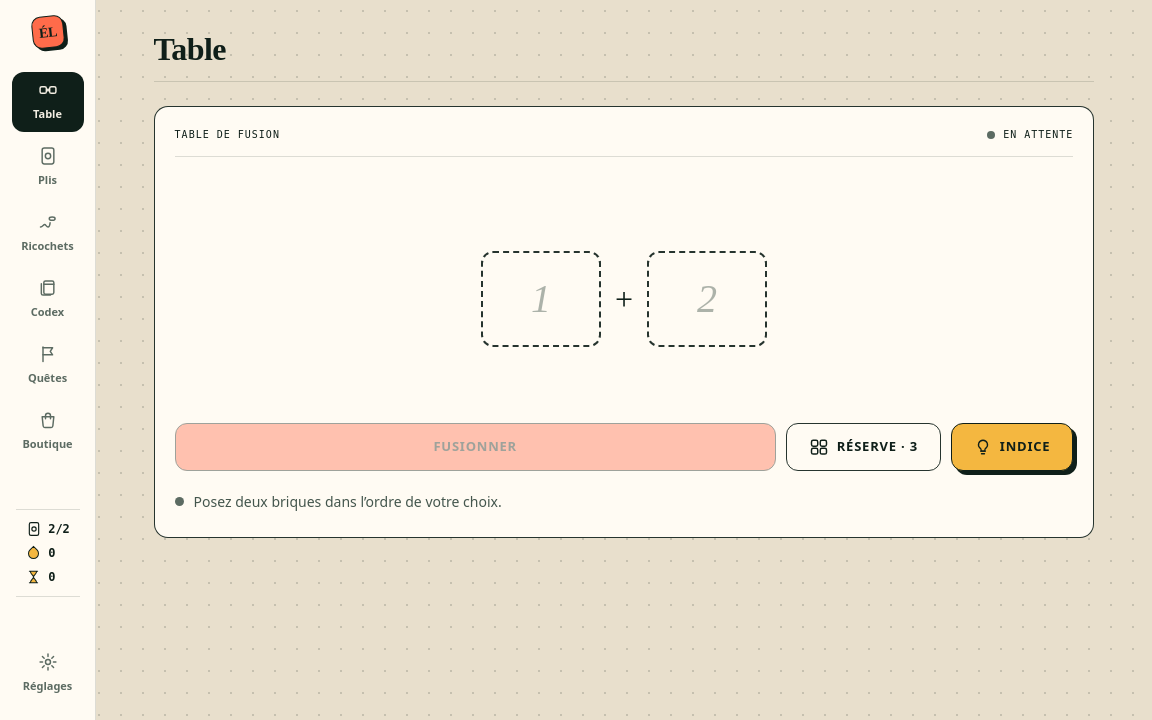
it: table de fusion › pose la brique choisie au bouton dans la case vide la plus à gauche
Click the button "Réserve · 3" at point(863, 447), box left=786, top=423, right=941, bottom=471
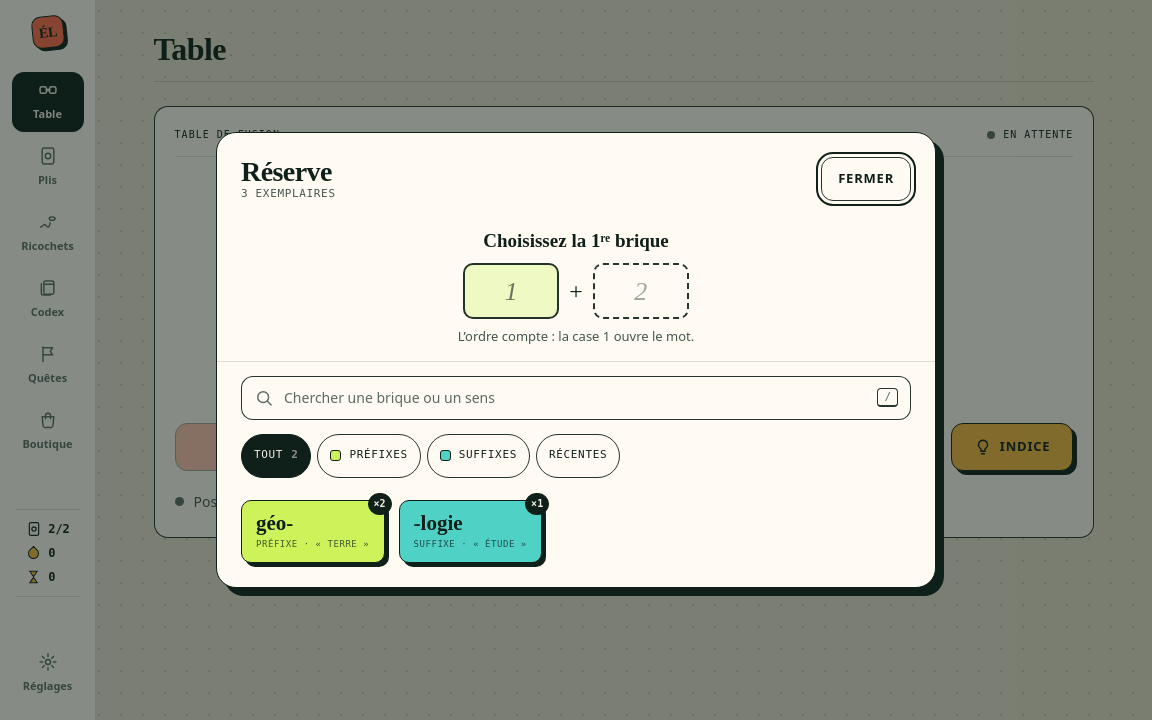
Click the button "géo- préfixe · « terre » ×2" at point(313, 532), box left=241, top=500, right=385, bottom=563
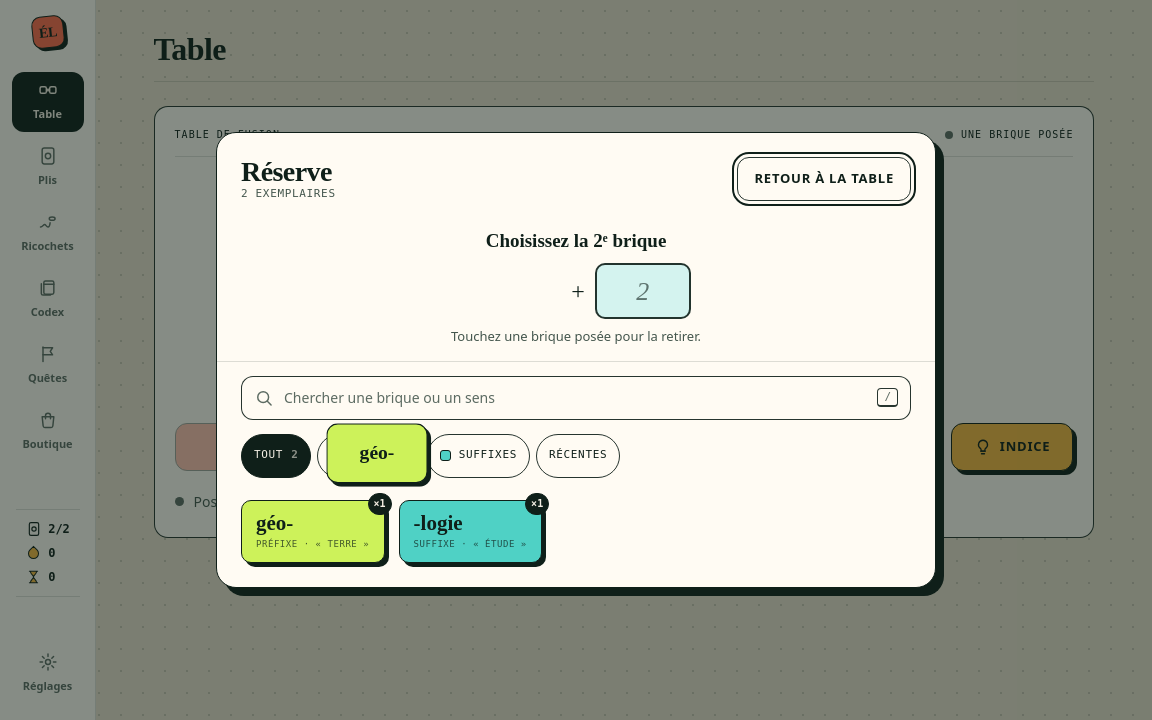
Click the button "-logie suffixe · « étude » ×1" at point(470, 532), box left=399, top=500, right=542, bottom=563
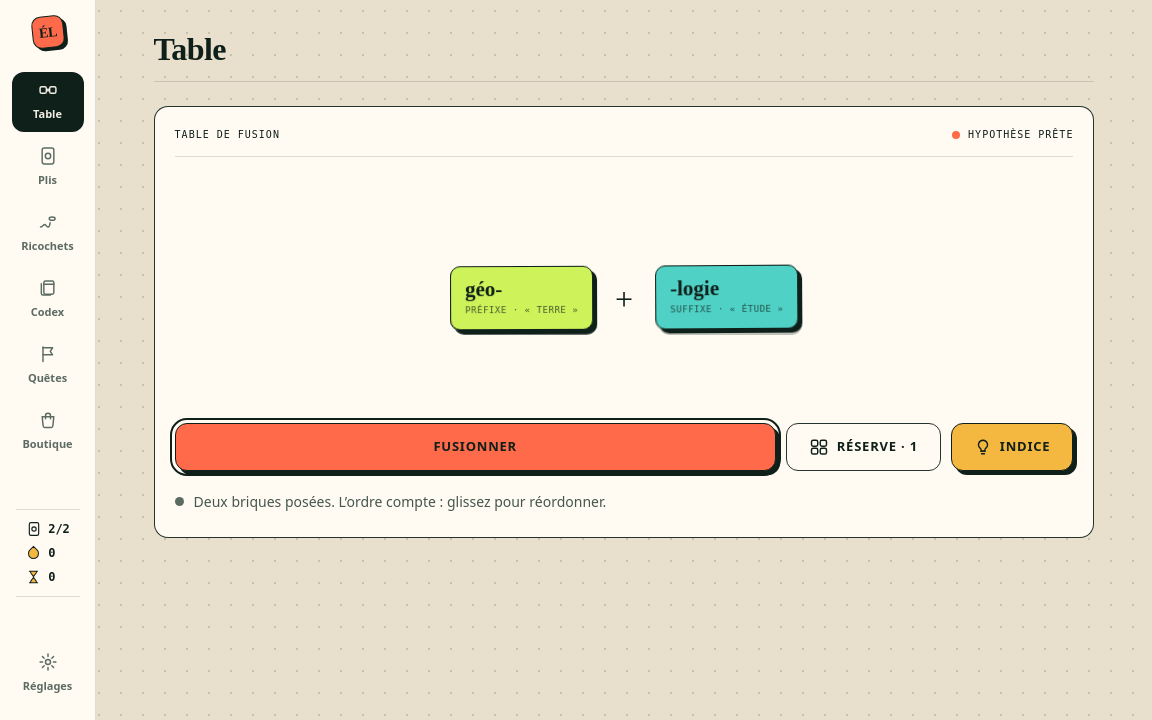
Click the button with aria-label "Emplacement 1 : géo-. Retirer" at point(521, 299), box left=442, top=251, right=601, bottom=347
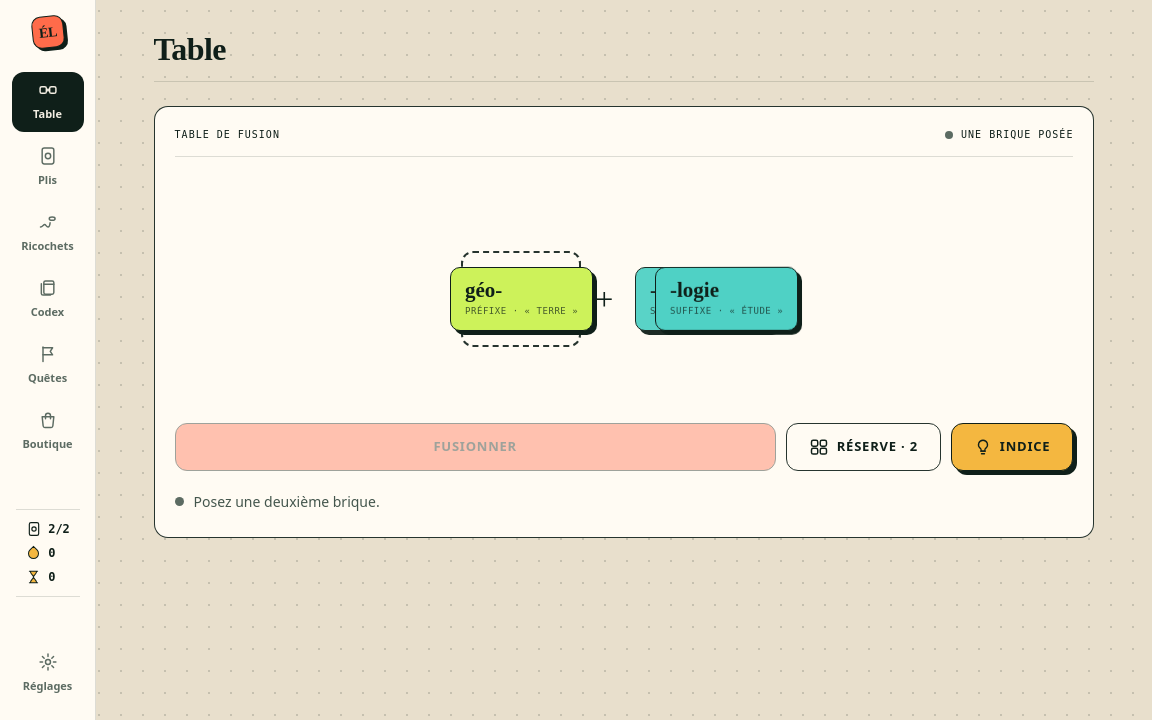
Click the button "Réserve · 2" at point(863, 447), box left=786, top=423, right=941, bottom=471
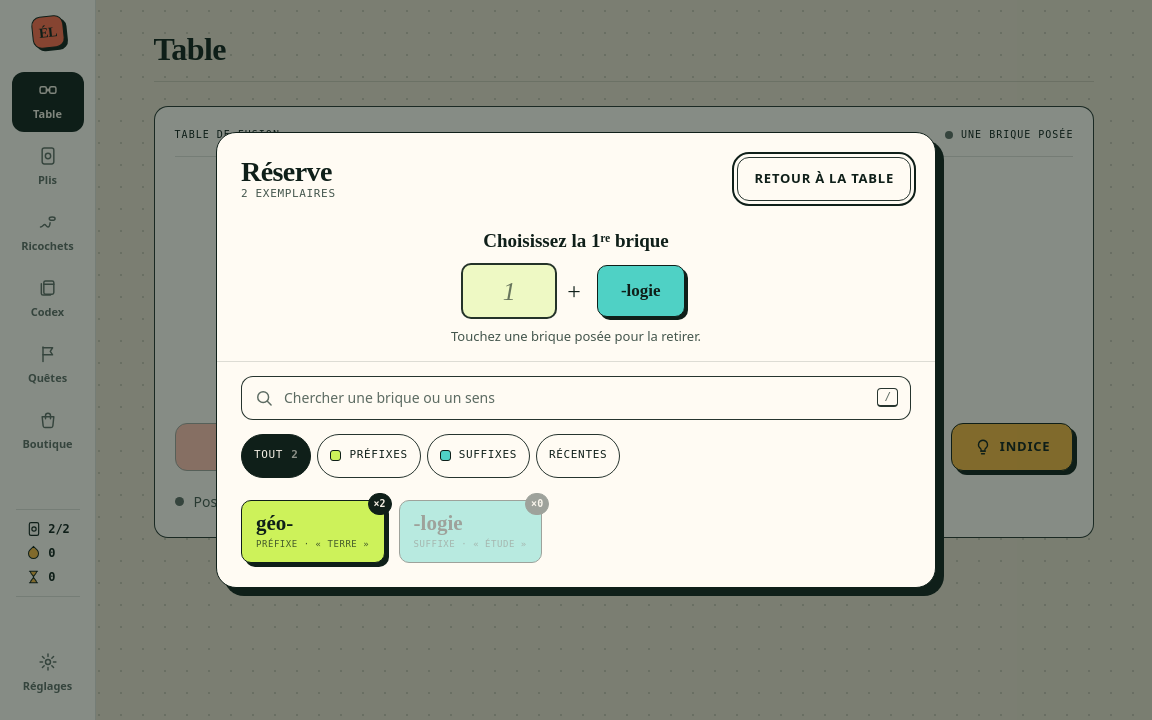
Click the button "géo- préfixe · « terre » ×2" at point(313, 532), box left=241, top=500, right=385, bottom=563
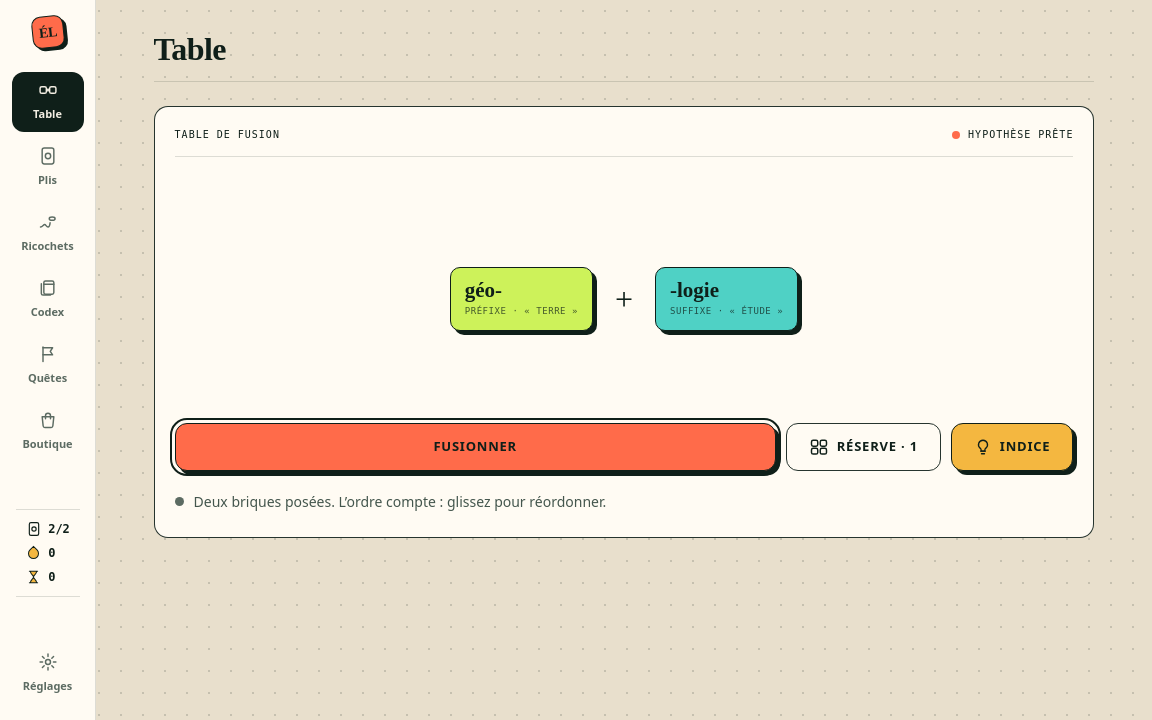
Expected: the button with aria-label "Emplacement 1 : géo-. Retirer" is shown, left=442, top=251, right=601, bottom=347
